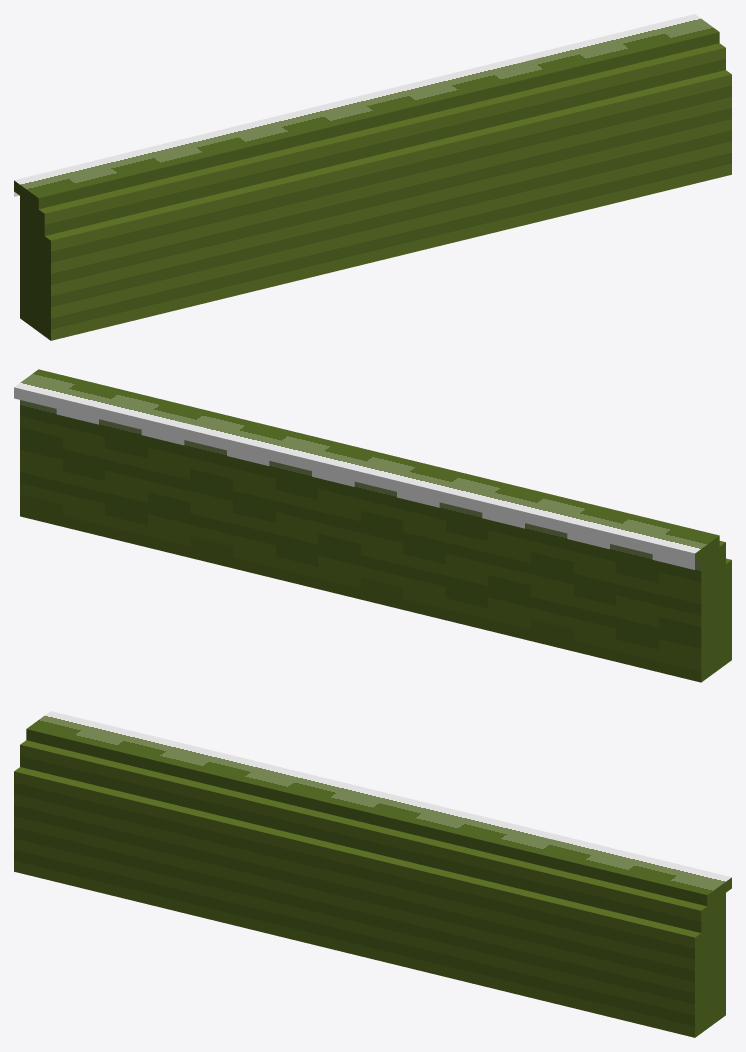
Rendered from wave_green.glb.
3 views of the same model, one above another, from view 1: azimuth 30°, elevation 25°; view 2: azimuth 150°, elevation 25°; view 3: azimuth 330°, elevation 25° (orthographic).
Visible parts, largest first — view 1: cube; view 2: cube; view 3: cube.
Part boxes in pixels (box(x1,y1,x2,y2)): cube: box(14, 14, 731, 340); cube: box(14, 369, 731, 682); cube: box(14, 711, 731, 1037).
Bounding box in the file's own units: 64 × 12 × 6.
1 material, 1 textured.
